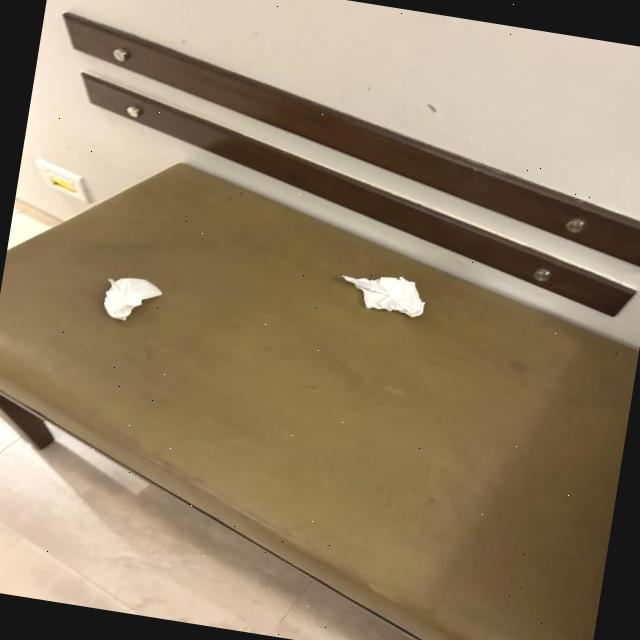mess: (339, 258, 437, 335), (92, 268, 162, 333)
